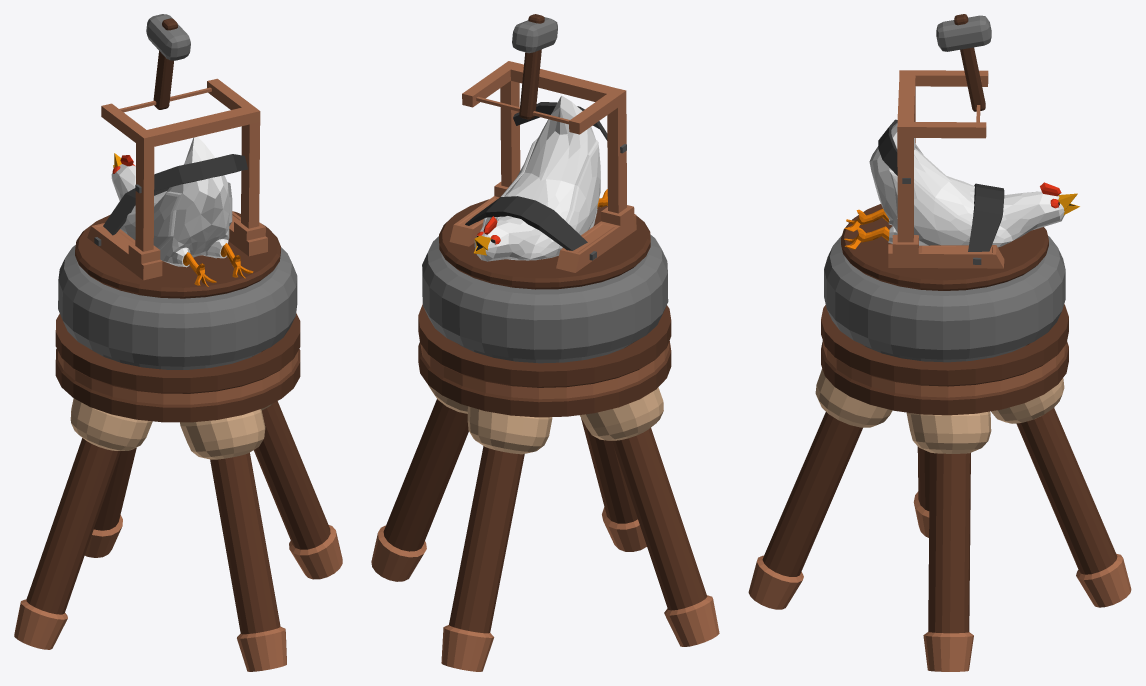
The model's file is Chiken_Turret 1.fbx.
3 views of the same model, side by side, from view 1: azimuth 30°, elevation 25°; view 2: azimuth 150°, elevation 25°; view 3: azimuth 270°, elevation 25° (orthographic). The views are drawn at different scales.
Parts seen in each view (by area): view 1: Base, Chiken, Hammer; view 2: Base, Chiken, Hammer; view 3: Base, Chiken, Hammer.
Boxes of the visible parts, <box> form: Base: <box>14,313,342,671</box>; Chiken: <box>58,78,297,369</box>; Hammer: <box>146,14,190,109</box>; Base: <box>371,304,719,671</box>; Chiken: <box>422,61,668,363</box>; Hammer: <box>512,14,557,119</box>; Base: <box>748,304,1131,671</box>; Chiken: <box>824,70,1079,362</box>; Hammer: <box>936,14,991,111</box>.
Size of the model in its own units: 791 by 1347 by 793.
